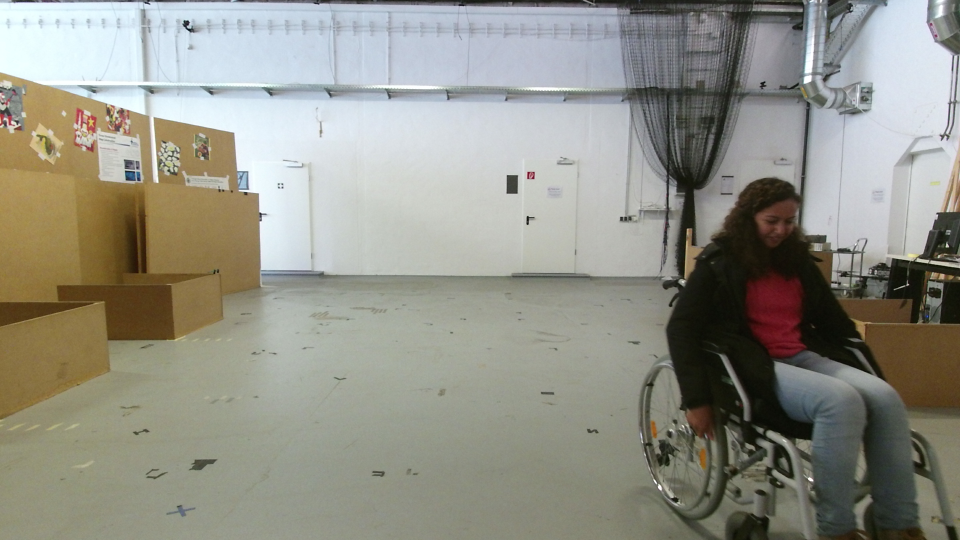wheelchair: (634, 179, 958, 540)
